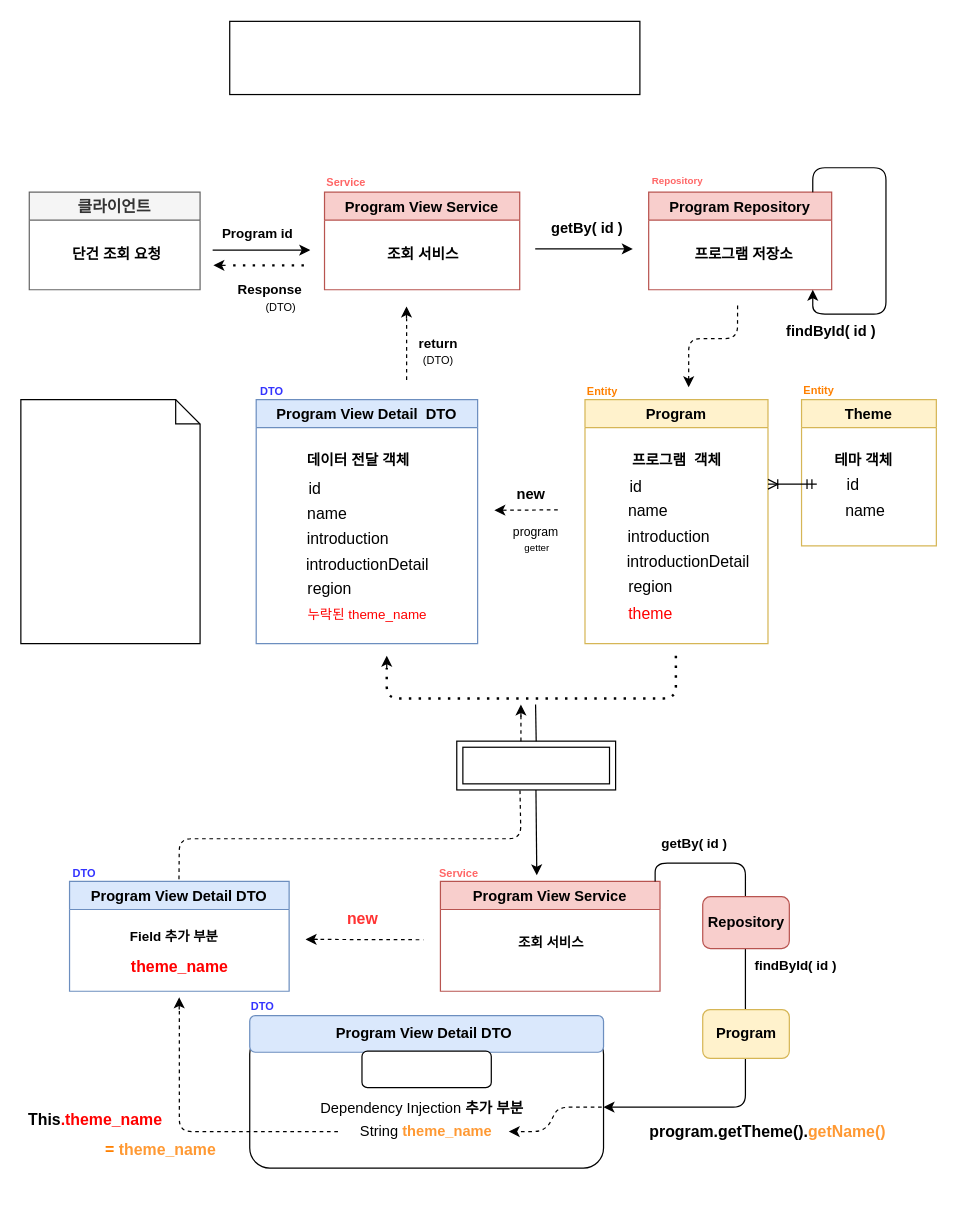
The diagram is 959 pixels wide and 1218 high, and some of its shapes have lost their labels. The centre of each missing label's shape, as x and y in pixels:
Constructor: the point at 426,1069
Program 조회 View - 테마 이름 추가: the point at 434,57
theme_name 추가: the point at 536,765
수정 내용 개요 DTO 생성 시 Program로 부터 theme 객체를 불러와 DTO 속성에 누락된 theme 이름 을 새롭게 추가 한다 .: the point at 110,521
